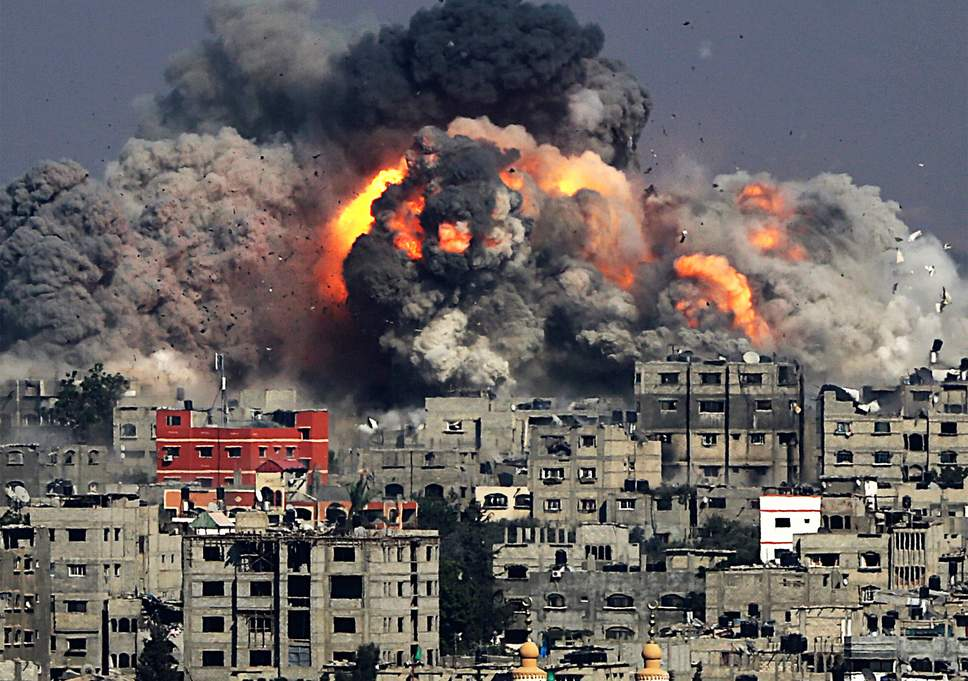fire: (344, 137, 809, 357)
